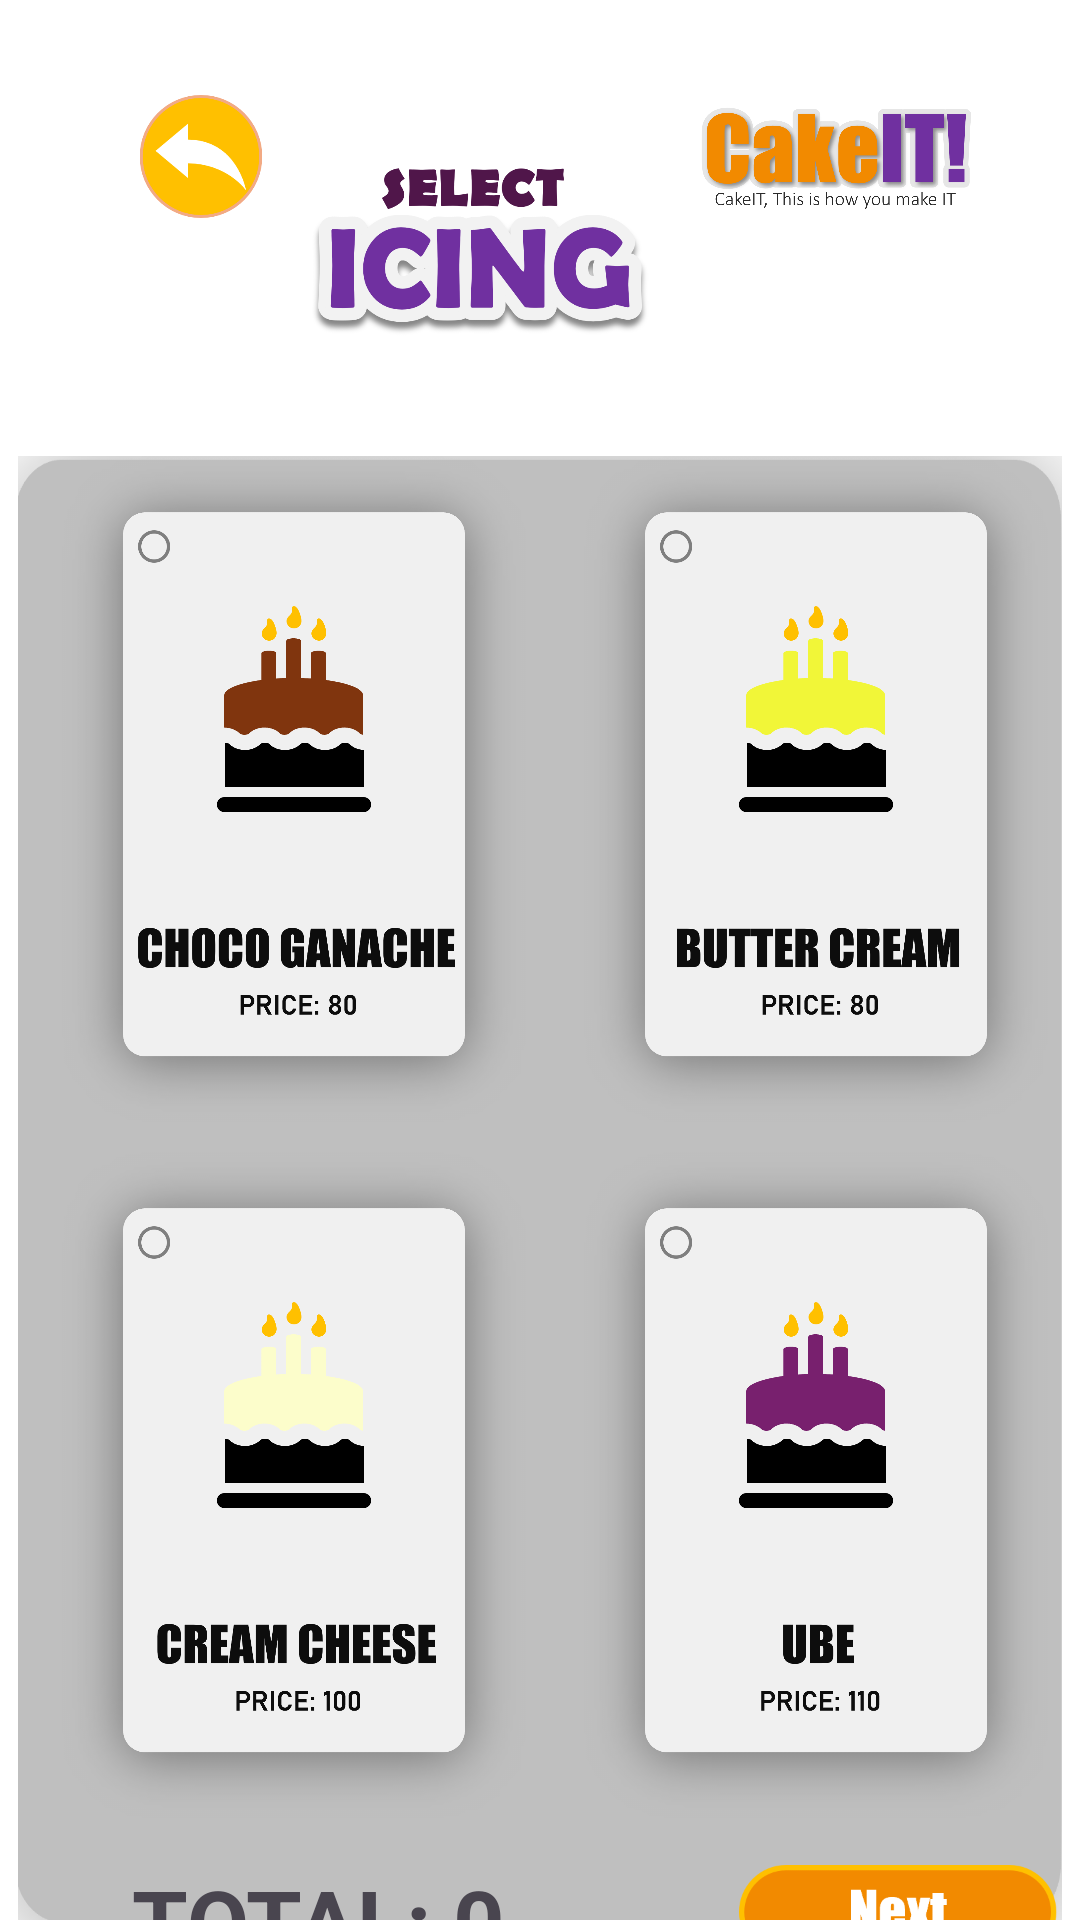

Named icons in this screenshot (1080*1920) and their bounding boxes, Rect(x1, y1, x2, y2):
backicon: Rect(140, 95, 262, 218)
